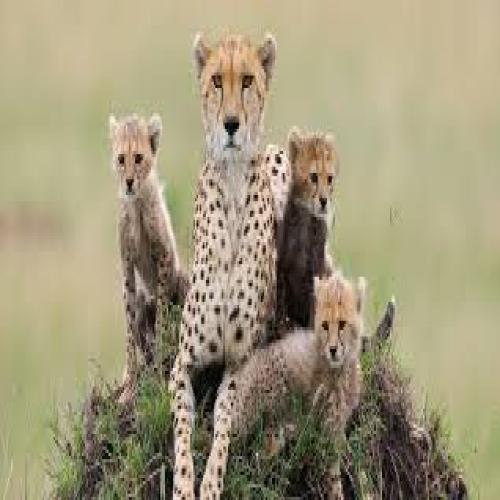cheetah-endangered: (169, 26, 292, 486), (227, 268, 371, 480), (105, 111, 189, 410), (277, 108, 341, 337)
